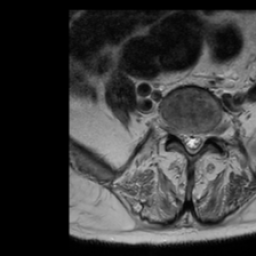CCS_normal: (187, 127, 195, 159)
LFS_stenosis: (205, 123, 213, 145)
LLS_normal: (195, 127, 203, 151)
RFS_normal: (173, 123, 181, 143)
RLS_normal: (181, 128, 189, 150)
